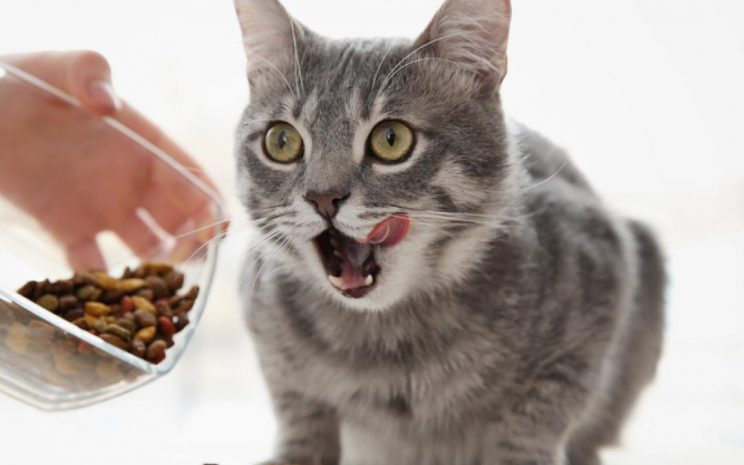cat: (211, 19, 679, 423)
